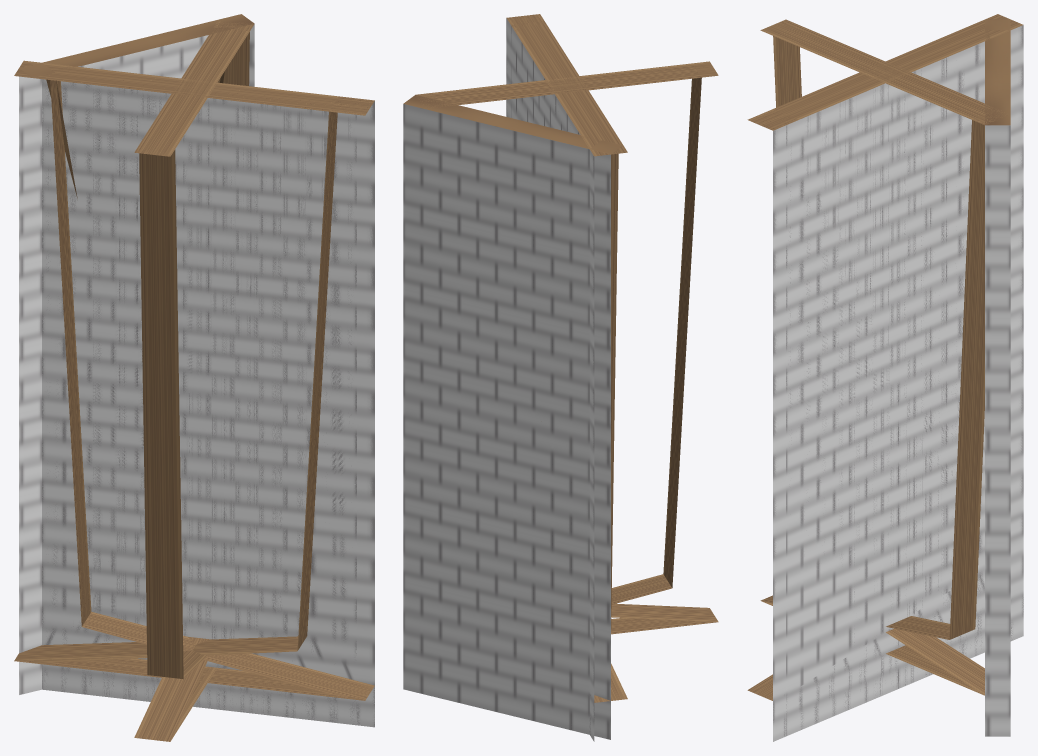
The model's file is walls.glb.
3 renders of one model, left to right at view 1: azimuth 30°, elevation 25°; view 2: azimuth 150°, elevation 25°; view 3: azimuth 270°, elevation 25°, orthographic. The views are drawn at different scales.
Visible parts, largest first — view 1: Diagonal_Wall.Up.Left_Extension, Diagonal_Wall.Up.Full, Diagonal_Wall.Up.Right_Extension, Diagonal_Wall.Right.Right_Extension, Diagonal_Wall_Top.Left.Cross, Diagonal_Wall.Right.Left_Extension, Wall.Left.Extended_Side, Diagonal_Wall.Left.Side, Diagonal_Wall.Up.Side, Diagonal_Wall.Left.Full, Wall.Up.Extended_Side, Diagonal_Wall.Left.Right_Extension (+21 smaller); view 2: Wall.Up.End, Wall.Up.Extended_Side, Wall.Right.Side, Wall.Left.End, Wall.Left.Extended_Side, Diagonal_Wall_Top.Left.Cross, Wall.Up.Side, Diagonal_Wall_Top.Up.Cross, Diagonal_Wall_Top.Up.Left_Extension, Diagonal_Wall_Top.Up.Full, Diagonal_Wall.Left.Right_Extension, Diagonal_Wall.Up.Side (+11 smaller); view 3: Diagonal_Wall.Up.Side, Diagonal_Wall.Up.Left_Extension, Diagonal_Wall.Up.Right_Extension, Diagonal_Wall.Up.Full, Diagonal_Wall.Left.Right_Extension, Wall.Up.End, Diagonal_Wall_Top.Right.Cross, Wall.Right.End, Diagonal_Wall.Right.Right_Extension, Diagonal_Wall_Top.Up.Cross, Diagonal_Wall_Top.Left.Cross, Diagonal_Wall.Left.Side (+11 smaller).
Boxes of the visible parts, x1,y1,x2,y2 form: Diagonal_Wall.Up.Left_Extension: [42, 80, 374, 698]; Diagonal_Wall.Up.Full: [42, 79, 374, 640]; Diagonal_Wall.Up.Right_Extension: [42, 81, 356, 724]; Diagonal_Wall.Right.Right_Extension: [42, 101, 374, 725]; Diagonal_Wall_Top.Left.Cross: [134, 145, 207, 679]; Diagonal_Wall.Right.Left_Extension: [97, 113, 356, 725]; Wall.Left.Extended_Side: [19, 76, 41, 694]; Diagonal_Wall.Left.Side: [42, 80, 268, 710]; Diagonal_Wall.Up.Side: [42, 79, 356, 636]; Diagonal_Wall.Left.Full: [42, 620, 374, 726]; Wall.Up.Extended_Side: [19, 36, 207, 694]; Diagonal_Wall.Left.Right_Extension: [42, 79, 319, 715]; Wall.Up.End: [403, 104, 589, 704]; Wall.Up.Extended_Side: [403, 106, 610, 721]; Wall.Right.Side: [403, 104, 589, 729]; Wall.Left.End: [403, 150, 589, 710]; Wall.Left.Extended_Side: [403, 155, 610, 718]; Diagonal_Wall_Top.Left.Cross: [611, 61, 718, 604]; Wall.Up.Side: [403, 104, 589, 550]; Diagonal_Wall_Top.Up.Cross: [418, 62, 717, 107]; Diagonal_Wall_Top.Up.Left_Extension: [507, 14, 622, 148]; Diagonal_Wall_Top.Up.Full: [507, 14, 626, 155]; Diagonal_Wall.Left.Right_Extension: [589, 150, 594, 740]; Diagonal_Wall.Up.Side: [511, 25, 580, 134]; Diagonal_Wall.Up.Side: [786, 42, 984, 734]; Diagonal_Wall.Up.Left_Extension: [773, 41, 984, 738]; Diagonal_Wall.Up.Right_Extension: [786, 27, 1023, 679]; Diagonal_Wall.Up.Full: [773, 25, 1023, 741]; Diagonal_Wall.Left.Right_Extension: [786, 25, 1023, 736]; Wall.Up.End: [985, 125, 1010, 724]; Diagonal_Wall_Top.Right.Cross: [760, 110, 1009, 639]; Wall.Right.End: [985, 125, 1010, 736]; Diagonal_Wall.Right.Right_Extension: [773, 120, 809, 741]; Diagonal_Wall_Top.Up.Cross: [762, 19, 1009, 124]; Diagonal_Wall_Top.Left.Cross: [760, 19, 984, 695]; Diagonal_Wall.Left.Side: [786, 411, 984, 734].
Bounding box in the file's own units: 1.23 × 3 × 1.23.
15 materials, 15 textured.
